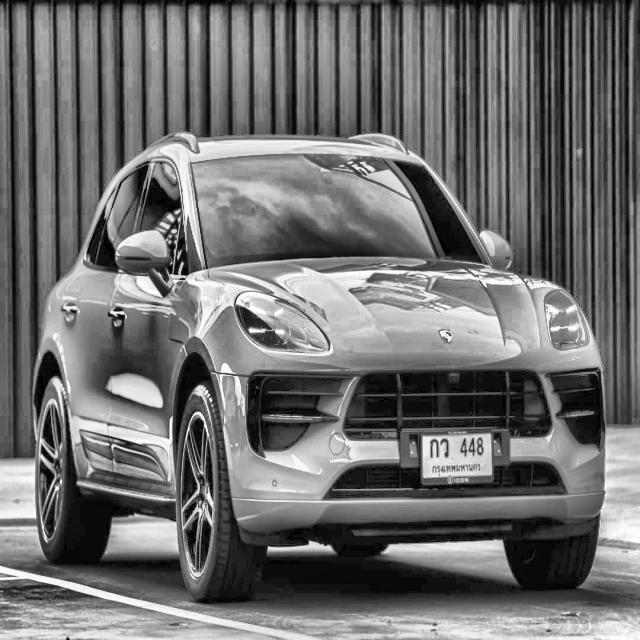license-plate: (420, 431, 496, 486)
